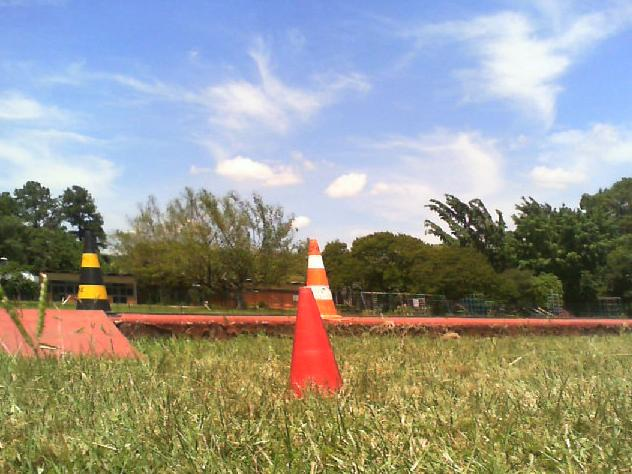0 cone: (286, 287, 344, 402), (74, 230, 120, 317), (306, 239, 353, 321)
